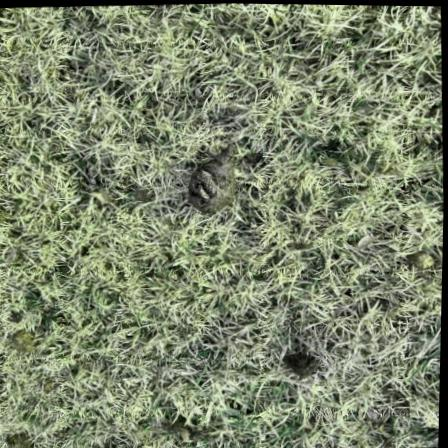dog-poop: (186, 148, 247, 217), (288, 348, 321, 381)
